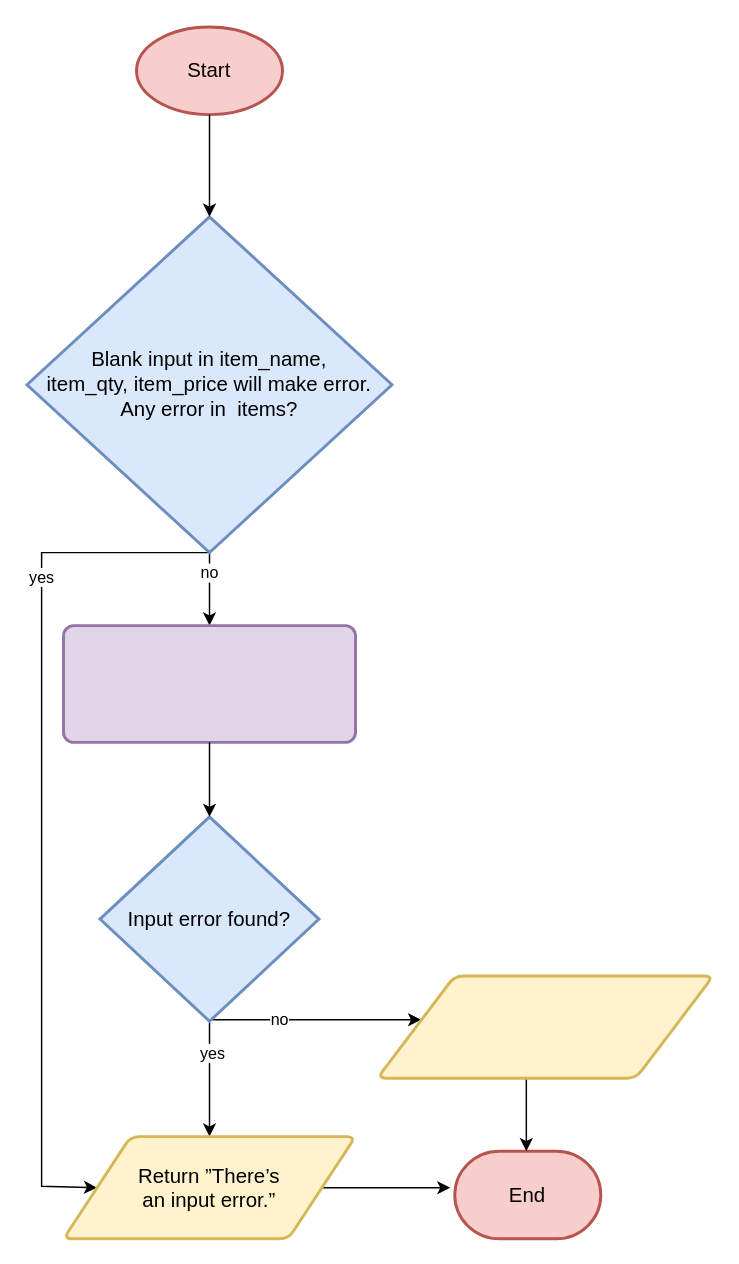
Image size: 739x1264. Some labels were removed from this diagram. The box of each missing label's shape, as (x1, y1, x2, y2) in pixels:
Loop through items to check for input errors: (61, 623, 356, 743)
Return ”Everything is OK .”: (375, 974, 714, 1079)
